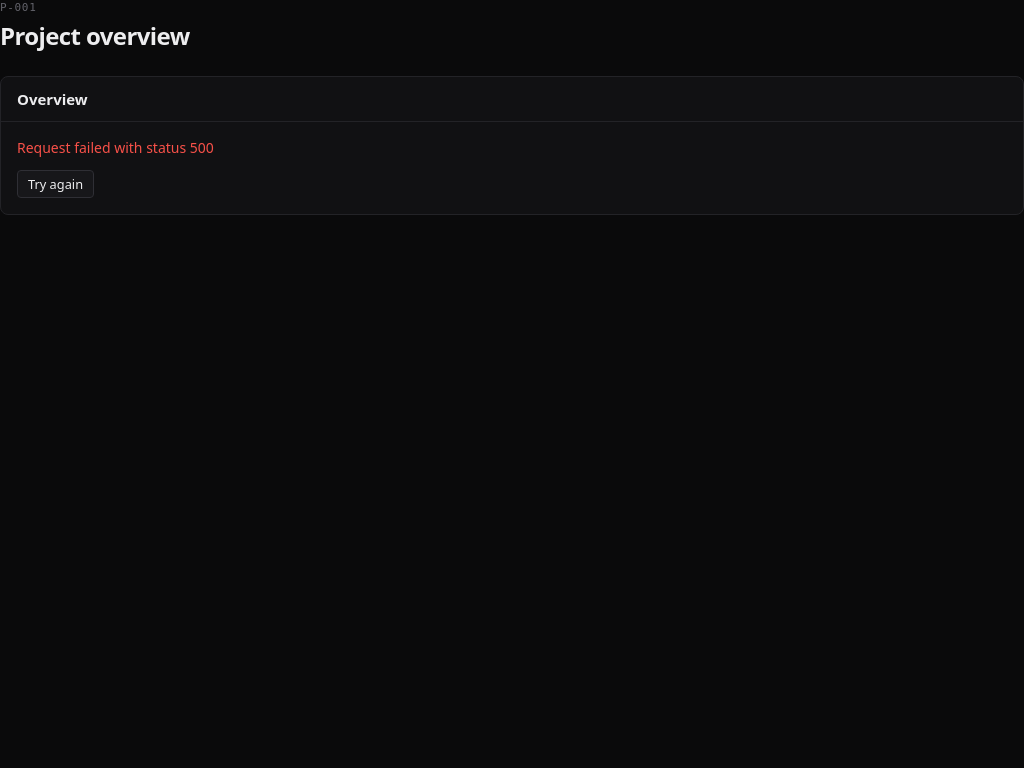
Test: OverviewPage › shows an error with a retry when the API fails
Check: the text "Request failed with status 500" is shown, box [17, 138, 214, 158]
What coordinates should you click on to do the following:
click the button "Try again"
I would click on:
 (56, 184)
Its box is [17, 170, 94, 198].
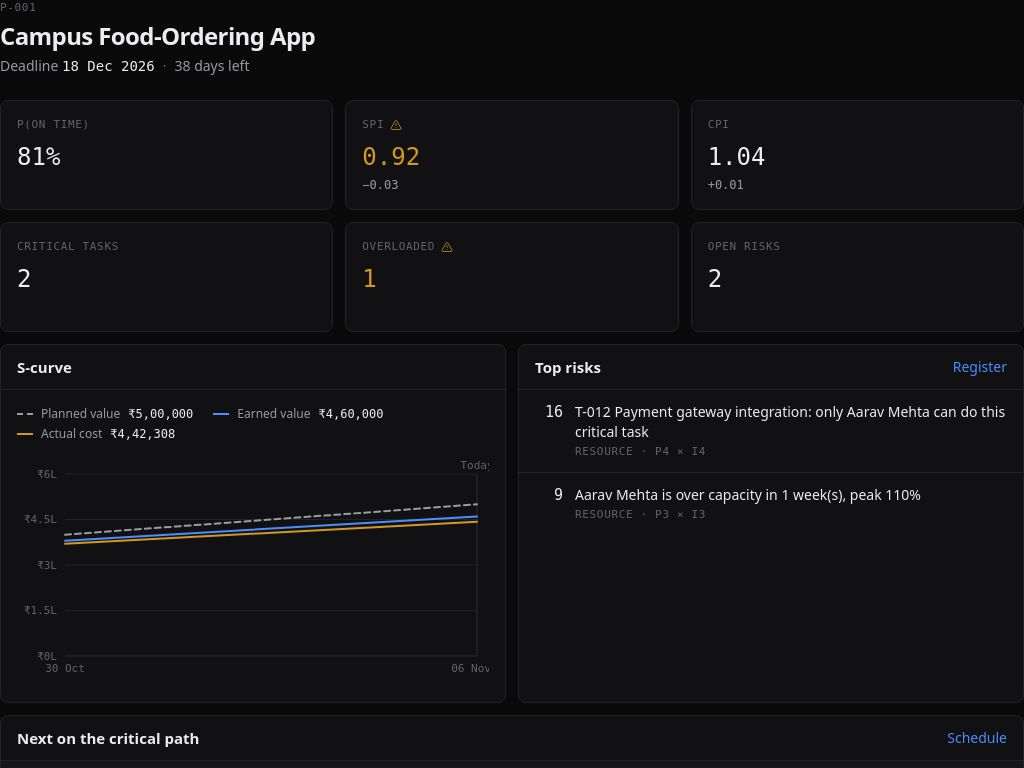
Check: the heading "Campus Food-Ordering App" is shown, box [0, 19, 315, 52]
